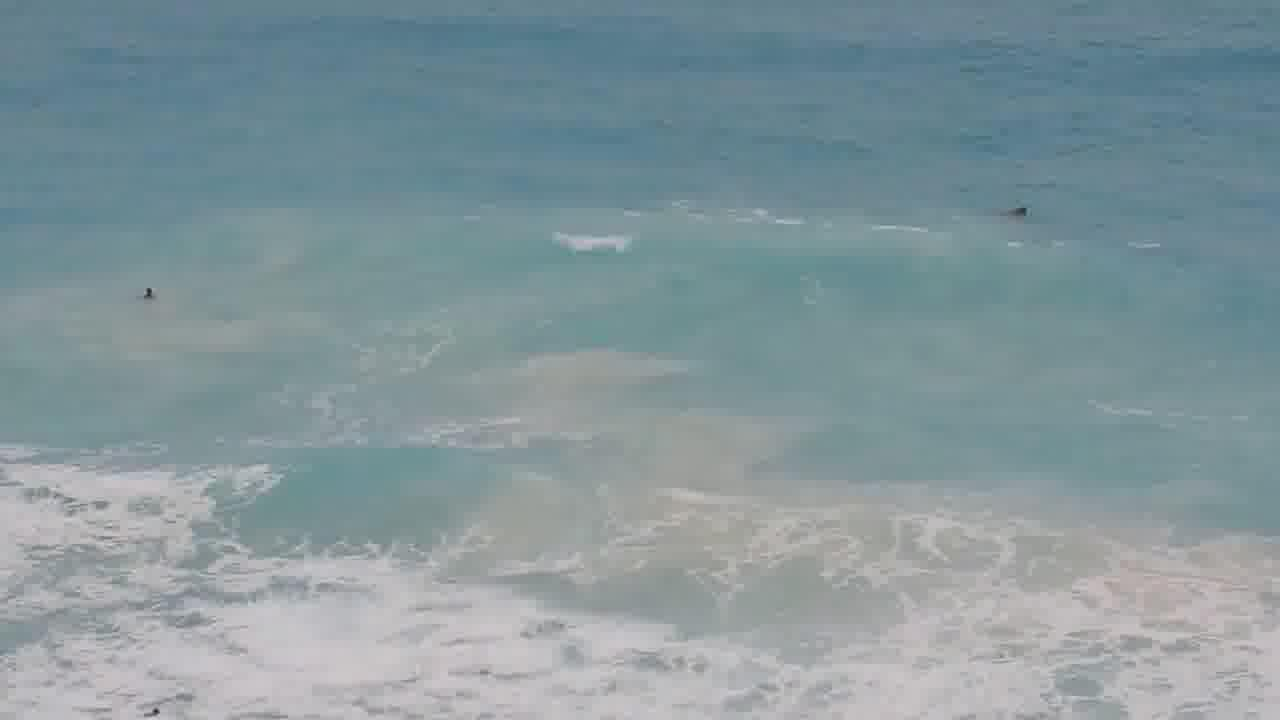human: (1001, 195, 1038, 232), (136, 279, 166, 309)
